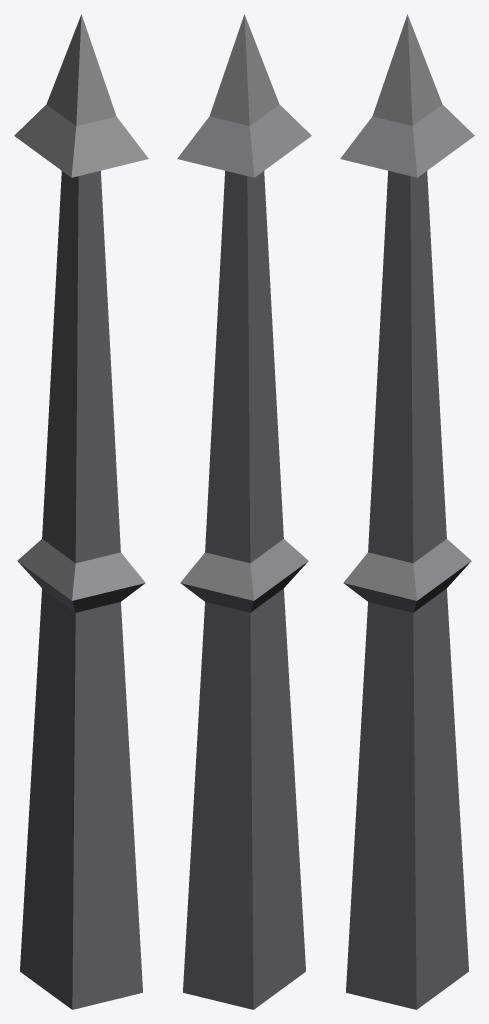
Rendered from FenceIronEnd_01.glb.
The picture shows the model from 3 angles, left to right: view 1: azimuth 30°, elevation 25°; view 2: azimuth 150°, elevation 25°; view 3: azimuth 330°, elevation 25°; orthographic projection.
Parts seen in each view (by area): view 1: FenceIronEnd_01; view 2: FenceIronEnd_01; view 3: FenceIronEnd_01.
Boxes of the visible parts, x1,y1,x2,y2 form: FenceIronEnd_01: (14, 14, 148, 1009); FenceIronEnd_01: (177, 14, 311, 1009); FenceIronEnd_01: (340, 14, 474, 1009).
Size of what is drawn, in the model's own units: 0.1294 by 1.55 by 0.1664.
Materials: 1 (1 with a texture image).
